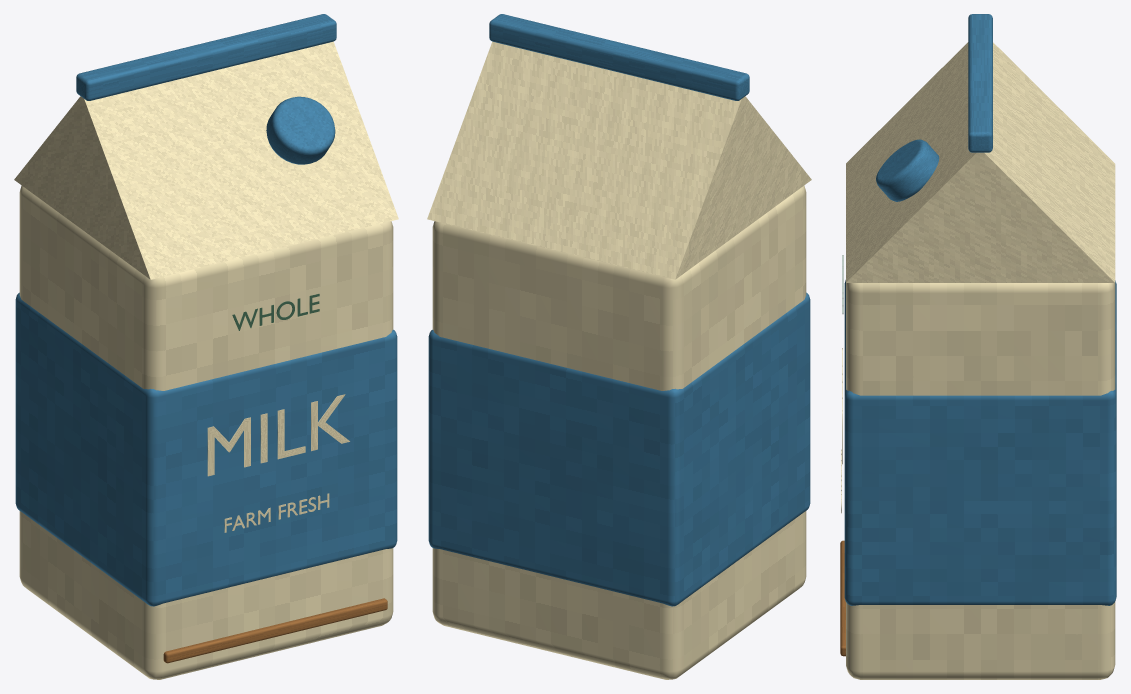
File: milk.fbx
3 renders of one model, left to right at view 1: azimuth 30°, elevation 25°; view 2: azimuth 150°, elevation 25°; view 3: azimuth 270°, elevation 25°, orthographic.
Parts seen in each view (by area): view 1: Blue printed sleeve, Cream paperboard, Folded gable roof, Crimped seam, Screw cap, Bottom fold, MILK, FARM FRESH, WHOLE; view 2: Blue printed sleeve, Cream paperboard, Folded gable roof, Crimped seam; view 3: Blue printed sleeve, Cream paperboard, Folded gable roof, Crimped seam, Screw cap, Bottom fold.
Part boxes in pixels (bbox=[...]): Blue printed sleeve: bbox=[15, 292, 397, 606]; Cream paperboard: bbox=[19, 185, 393, 679]; Folded gable roof: bbox=[14, 41, 398, 279]; Crimped seam: bbox=[76, 14, 336, 100]; Screw cap: bbox=[266, 96, 335, 164]; Bottom fold: bbox=[163, 598, 387, 663]; MILK: bbox=[207, 394, 349, 476]; FARM FRESH: bbox=[224, 493, 329, 532]; WHOLE: bbox=[232, 294, 319, 330]; Blue printed sleeve: bbox=[428, 292, 810, 606]; Cream paperboard: bbox=[432, 185, 806, 679]; Folded gable roof: bbox=[427, 41, 811, 279]; Crimped seam: bbox=[489, 14, 749, 100]; Blue printed sleeve: bbox=[844, 280, 1116, 605]; Cream paperboard: bbox=[846, 283, 1115, 679]; Folded gable roof: bbox=[846, 42, 1115, 282]; Crimped seam: bbox=[968, 14, 992, 152]; Screw cap: bbox=[876, 139, 939, 201]; Bottom fold: bbox=[840, 540, 845, 656].
Size of the model in its own units: 87 by 186 by 84.05.
4 materials, 3 textured.
